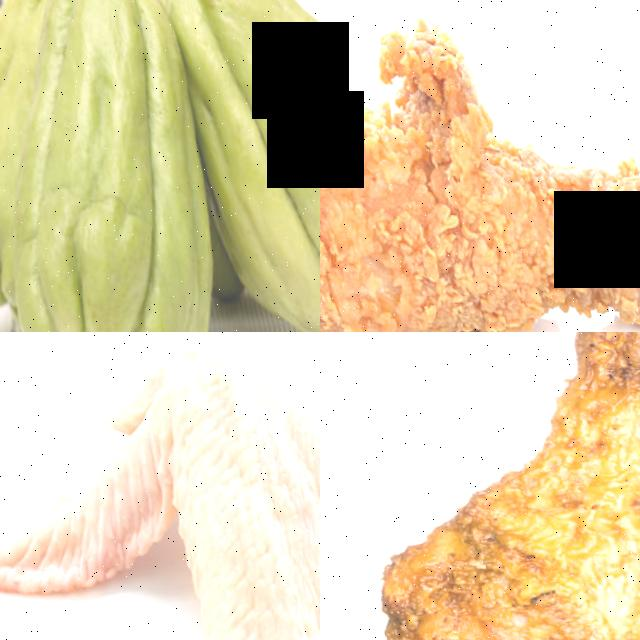chayote: (0, 0, 220, 332), (158, 0, 320, 332)
chicken thigh: (320, 332, 640, 640), (320, 58, 640, 332)
chicken wing: (0, 332, 320, 640)
